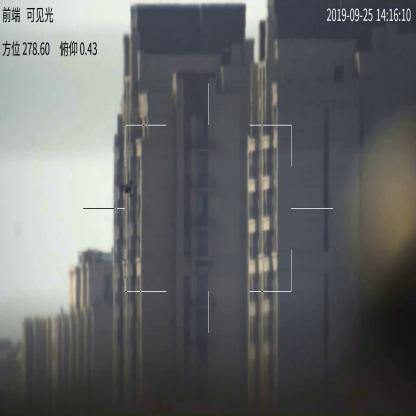uav: (119, 177, 136, 196)
